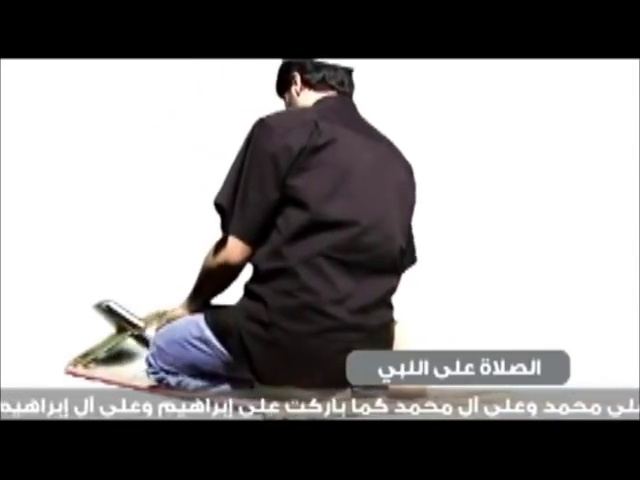sitting: (141, 61, 431, 400)
